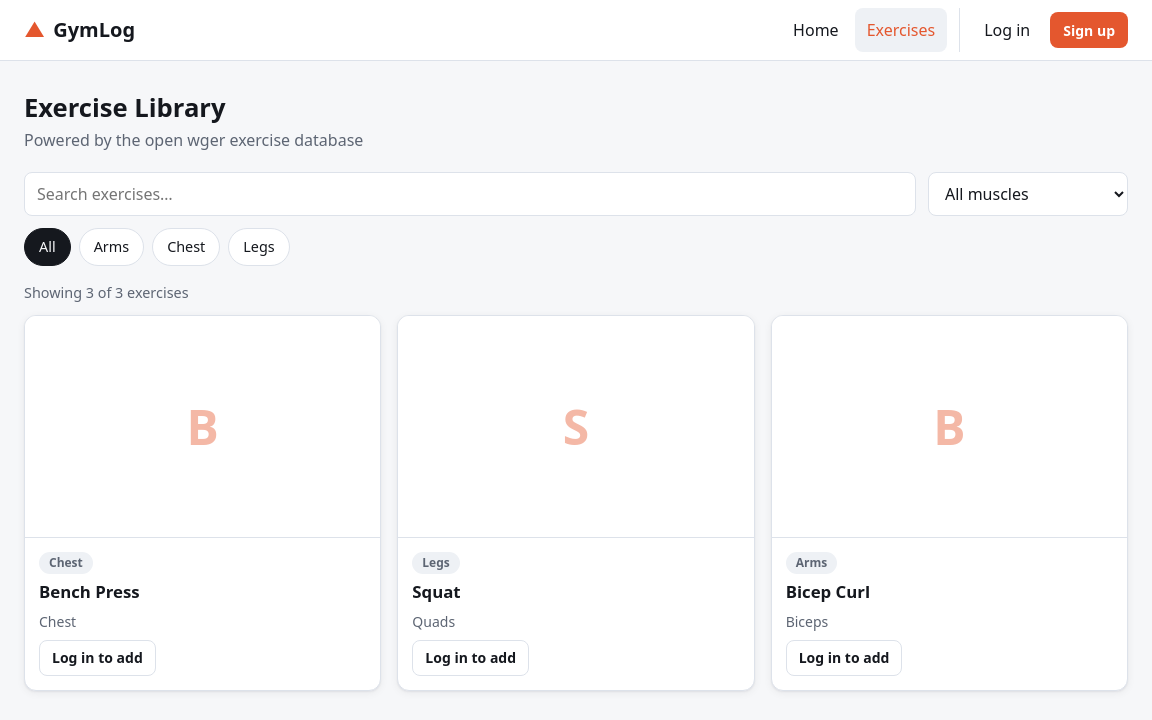
it: Exercise library (API data + local state) › filters by search text and category
Expected: the link "Bench Press" is shown, 39,580 -> 140,603
Type "bench" into the search field labelled "Search exercises…" at (470, 194), box 24,172 -> 916,216
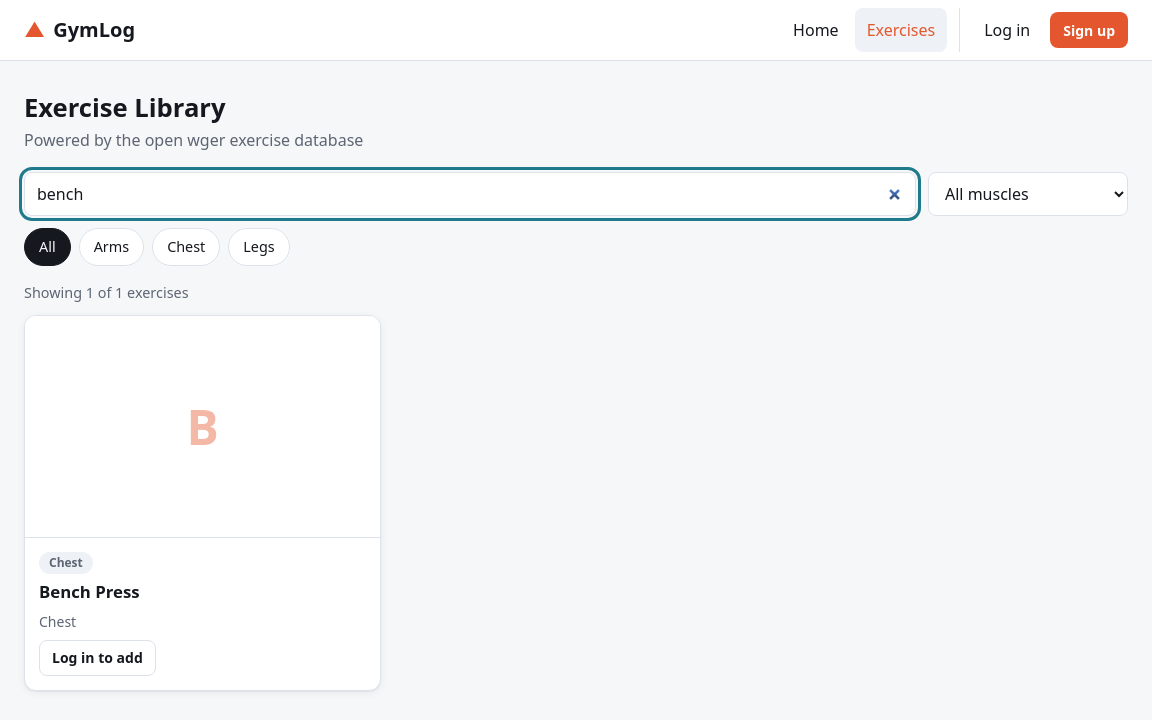
Expected: the link "Bench Press" is shown, 39,580 -> 140,603
Expected: the link "Squat" is gone
Clear the search field named "Search exercises" at (470, 194), box 24,172 -> 916,216
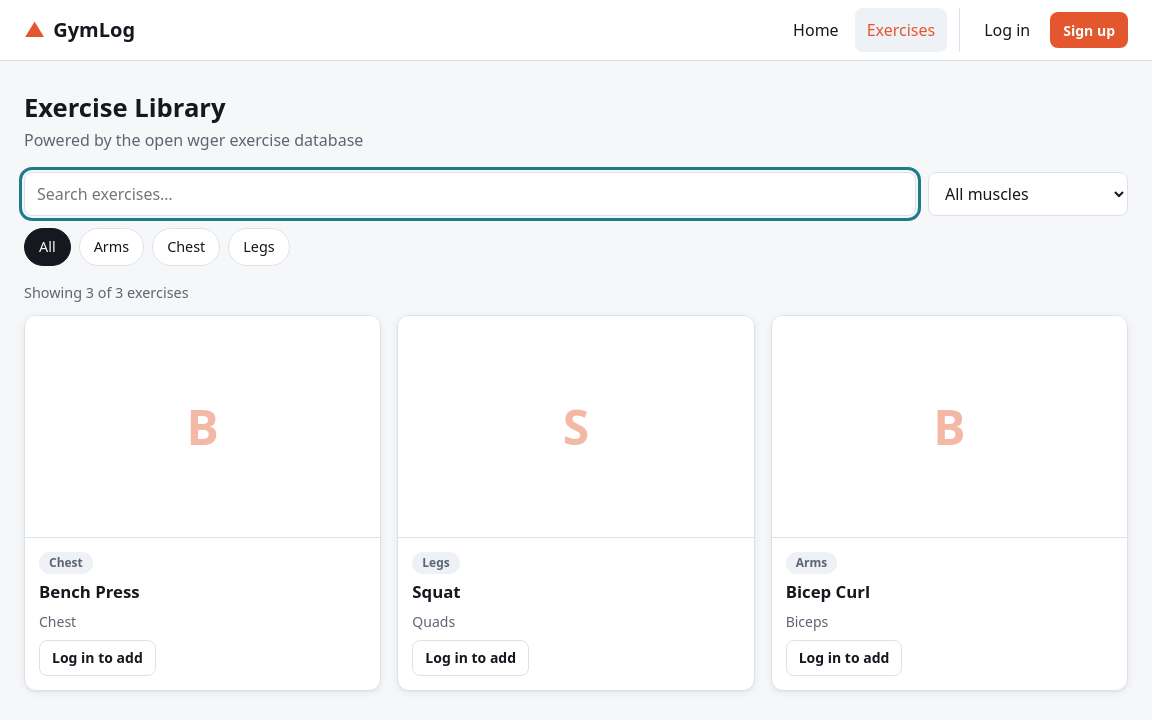
Click the button "Legs" at (259, 247), box 228,228 -> 290,266
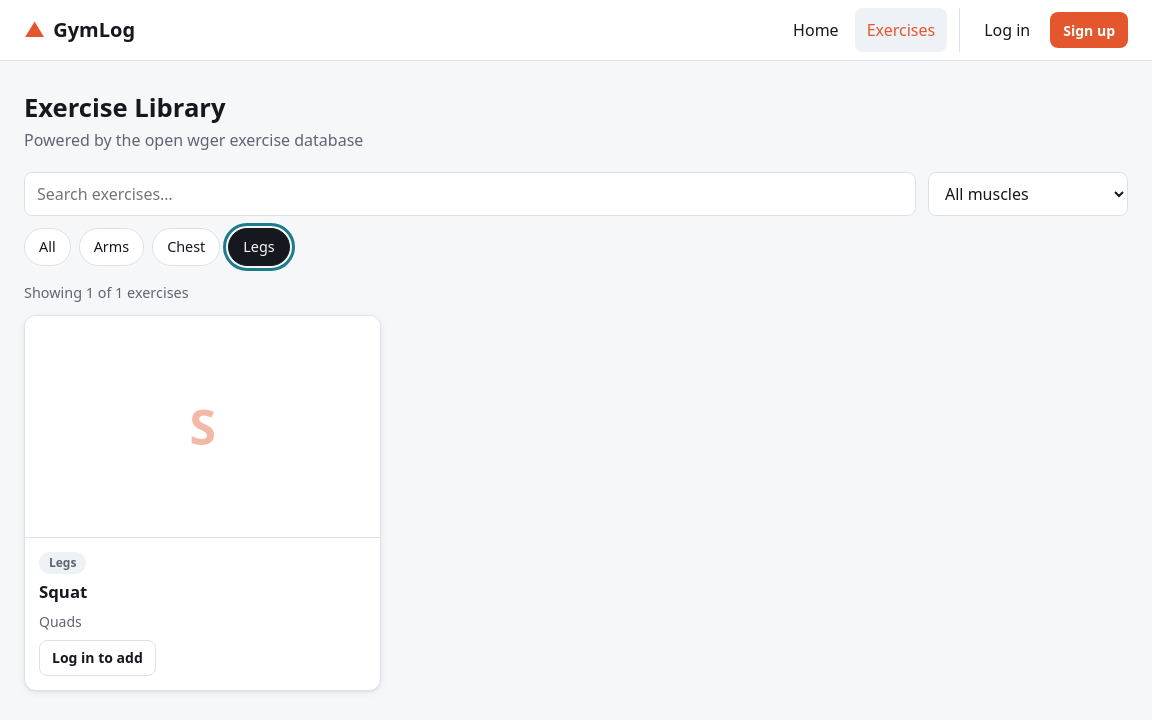
Expected: the link "Squat" is shown, 39,580 -> 87,603
Expected: the link "Bench Press" is gone
